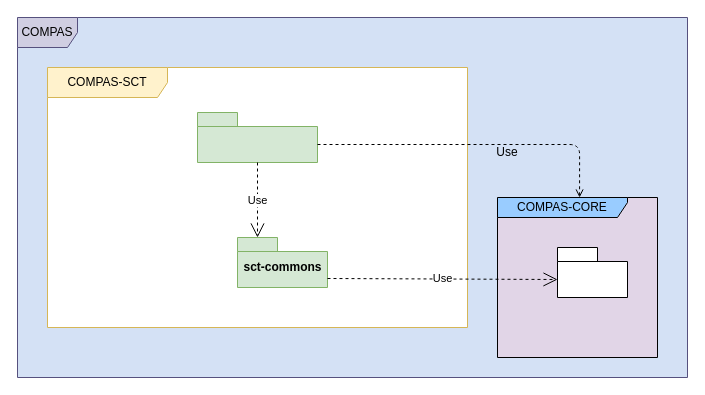
This 705x395 diagram has some shape labels left out. The shapes that lost their labels are listed below. From the top down, each one's centre as x and y in pixels, then its label:
At point 257,137: "sct-app (automation app)".
At point 592,272: "scl2007b4".
